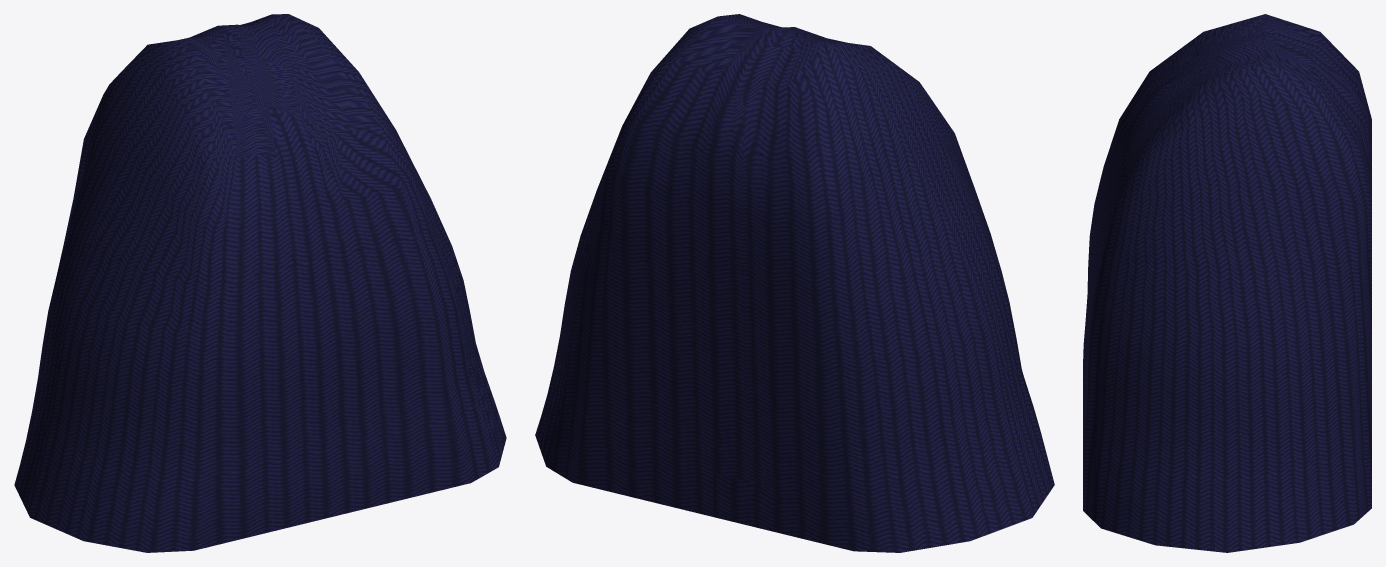
The model's file is LampLight_3DAsset_PodCloak.FBX.
The picture shows the model from 3 angles, left to right: view 1: azimuth 30°, elevation 25°; view 2: azimuth 150°, elevation 25°; view 3: azimuth 270°, elevation 25°; orthographic projection. The views are drawn at different scales.
Visible parts, largest first — view 1: Box005; view 2: Box005; view 3: Box005.
Boxes of the visible parts, left/top/right/bottom form: Box005: left=14, top=14, right=506, bottom=552; Box005: left=535, top=14, right=1054, bottom=552; Box005: left=1083, top=14, right=1371, bottom=552.
Size of the model in its own units: 65.68 by 58.31 by 37.32.
